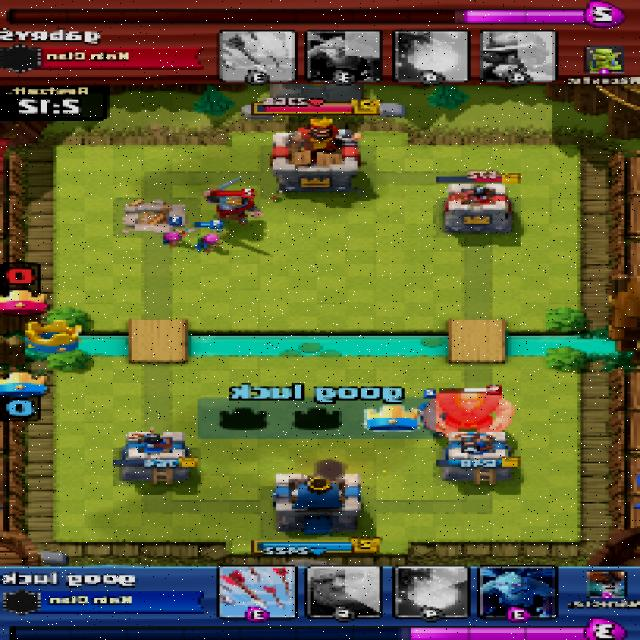Enemy-Giant: (423, 390, 518, 433)
Enemy-Knight: (200, 189, 262, 225)
Player-Archer: (194, 234, 222, 251), (162, 231, 188, 248)
Player-Knight: (413, 393, 448, 419)
